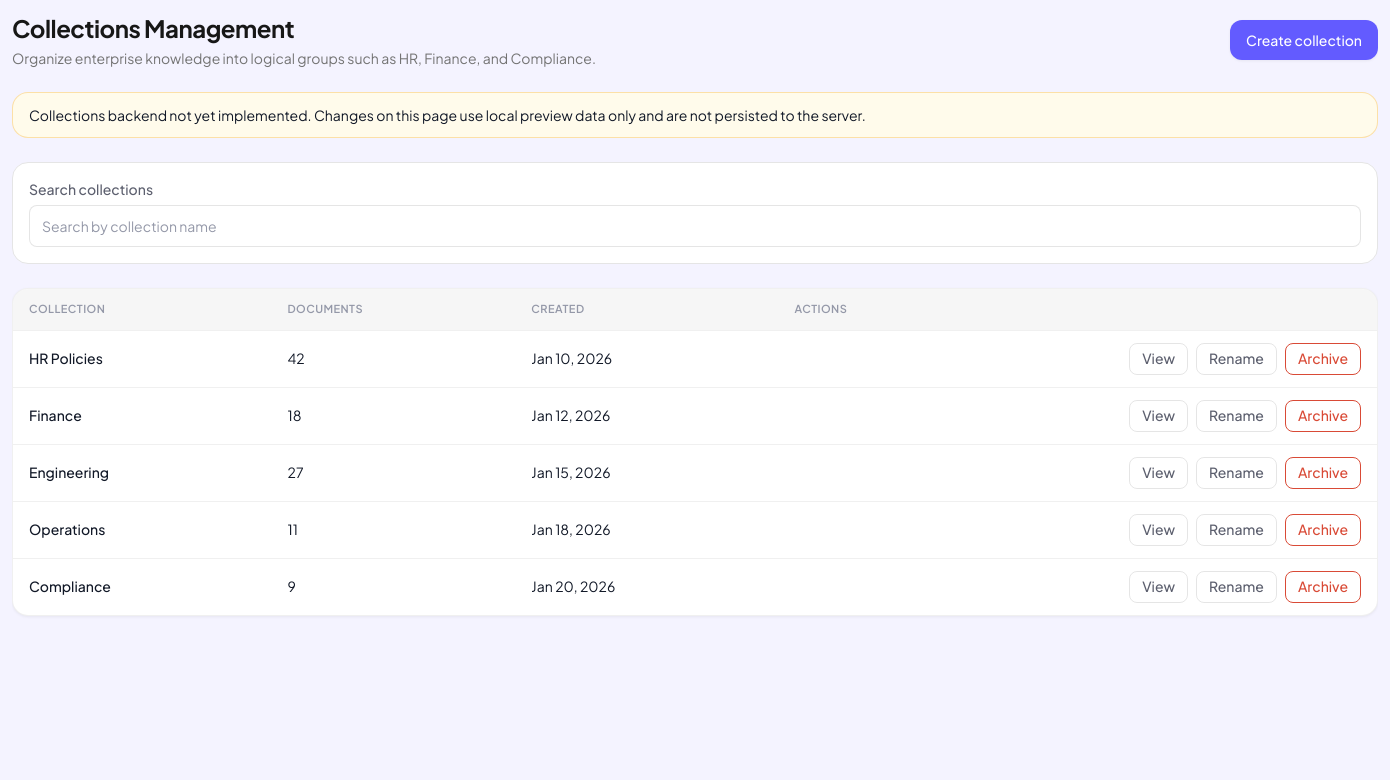
it: AdminCollectionsPage › filters collections by search
The width and height of the screenshot is (1390, 780).
Type "Finance" into the search field labelled "Search collections" at {"x": 695, "y": 226}, box [29,205,1361,247]
Wait 300 ms
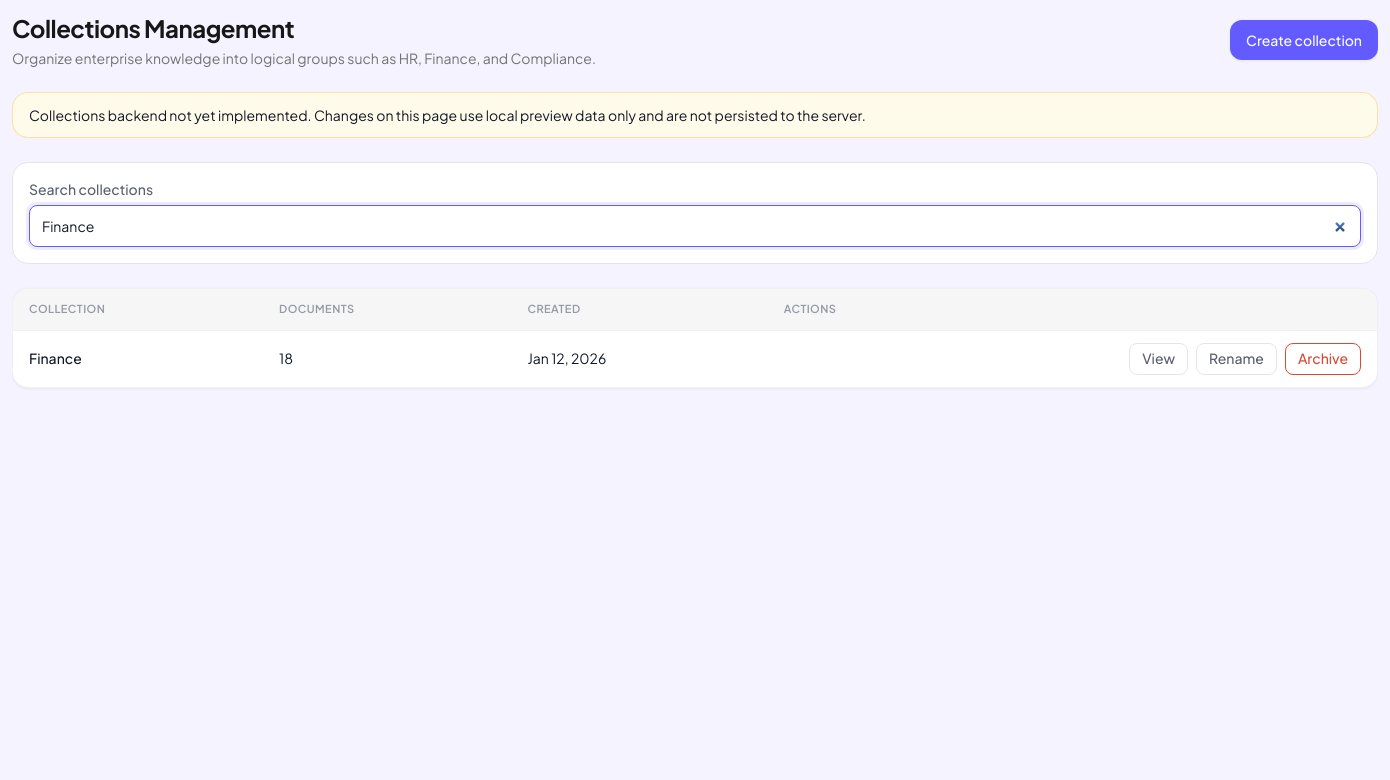
Expected: the text "Finance" is shown, [13,330,263,386]
Result: the text "HR Policies" is gone
